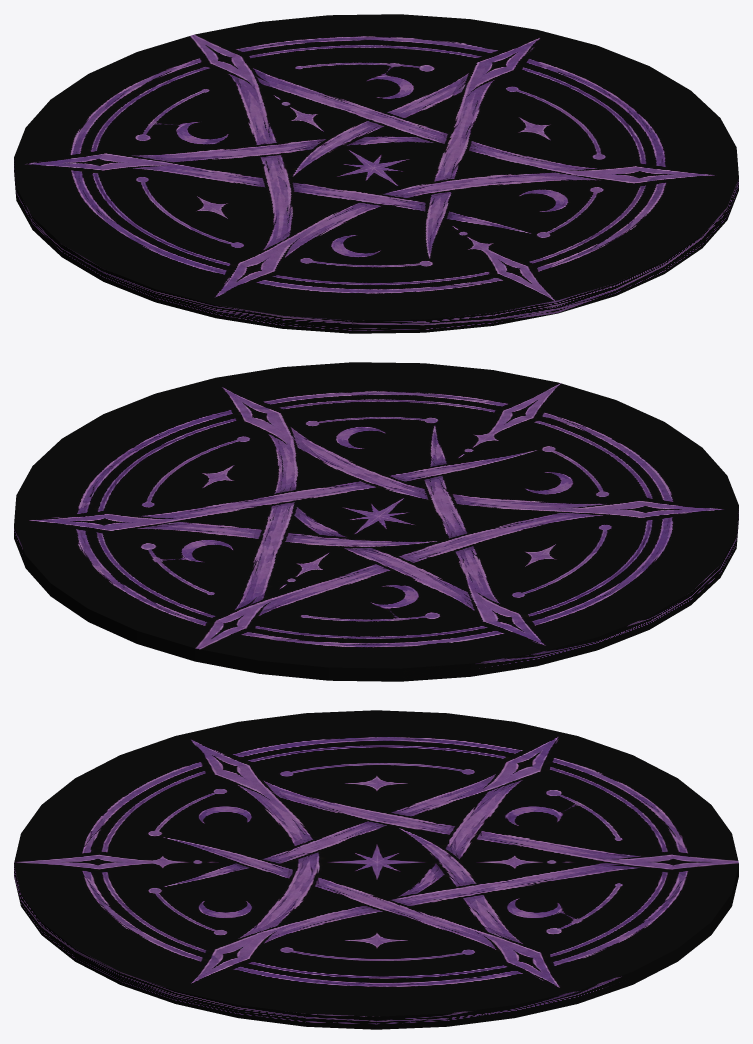
File: Pentagrama.fbx
The picture shows the model from 3 angles, top to bottom: view 1: azimuth 30°, elevation 25°; view 2: azimuth 150°, elevation 25°; view 3: azimuth 270°, elevation 25°; orthographic projection.
Visible parts, largest first — view 1: Cylinder.011; view 2: Cylinder.011; view 3: Cylinder.011.
Boxes of the visible parts, x1,y1,x2,y2 form: Cylinder.011: [14, 14, 738, 333]; Cylinder.011: [14, 362, 738, 681]; Cylinder.011: [14, 710, 738, 1029].
Bounding box in the file's own units: 24.73 × 0.493 × 24.73.
Materials: 1 (1 with a texture image).
